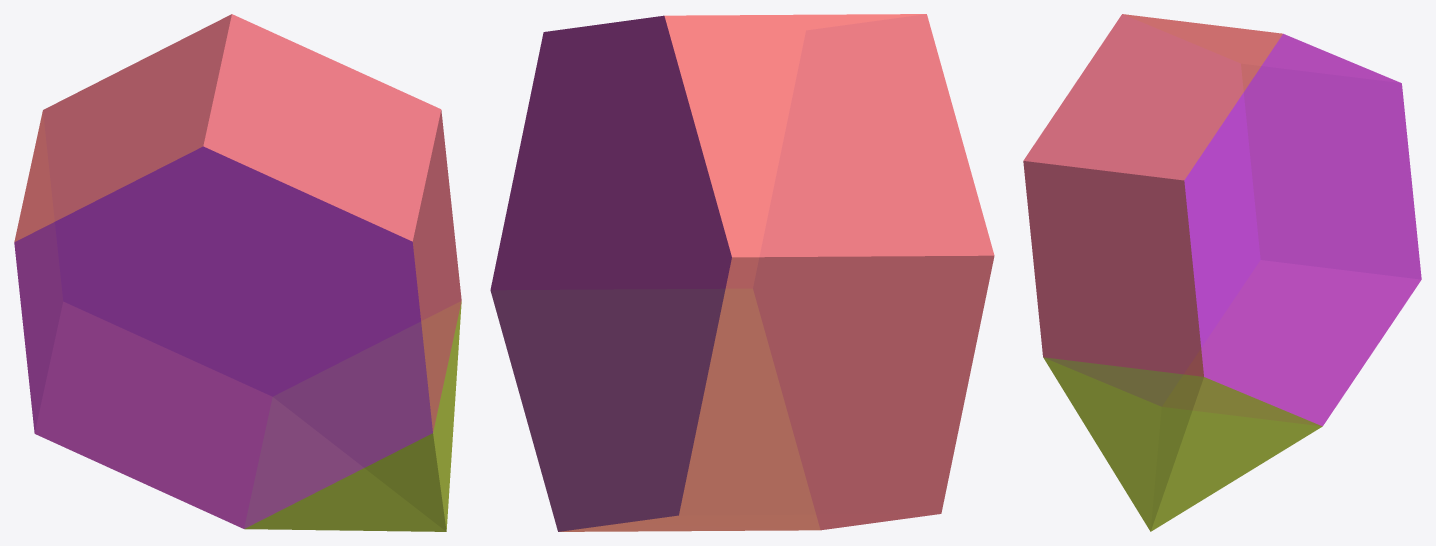
Rendered from j54_augmented_hexagonal_prism.obj.
3 views of the same model, side by side, from view 1: azimuth 30°, elevation 25°; view 2: azimuth 150°, elevation 25°; view 3: azimuth 270°, elevation 25° (orthographic). The views are drawn at different scales.
Size of the model in its own units: 1.84 by 2.04 by 1.68.
